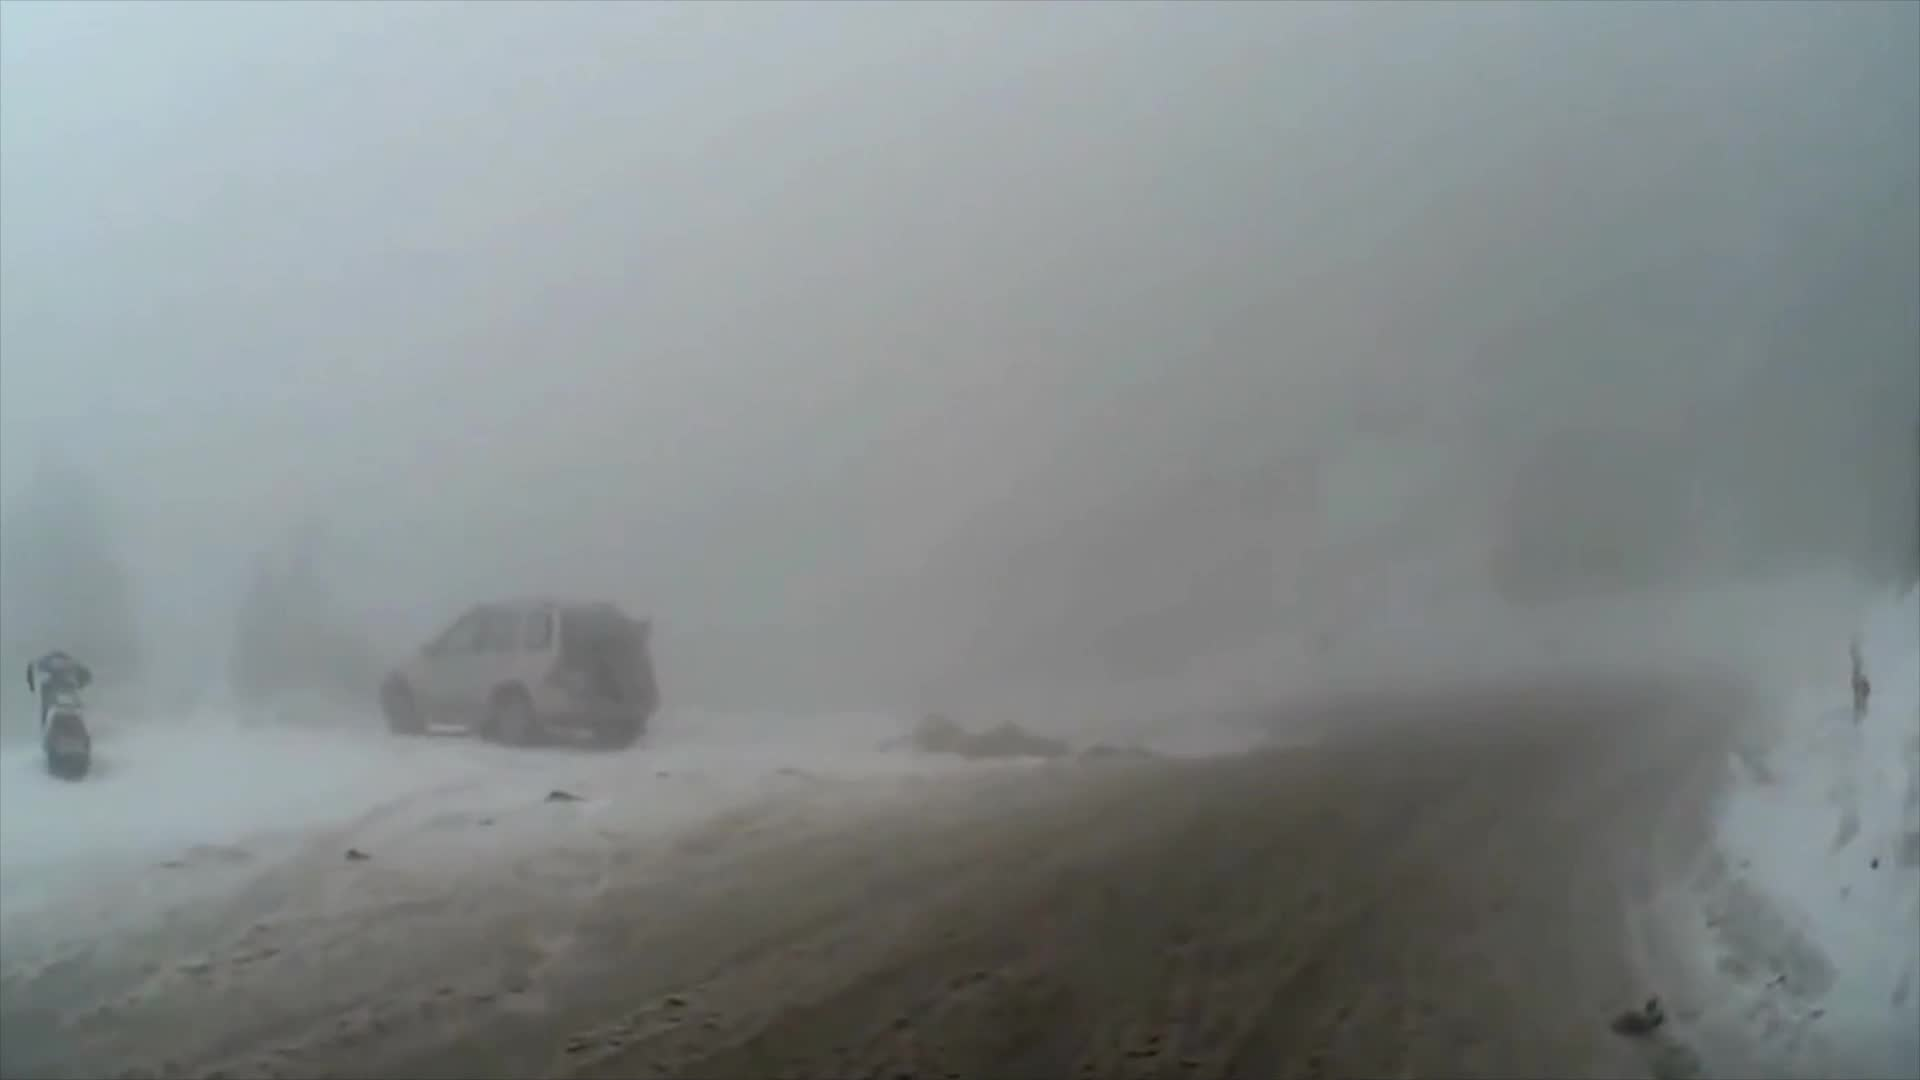vehicle: (372, 593, 655, 758)
